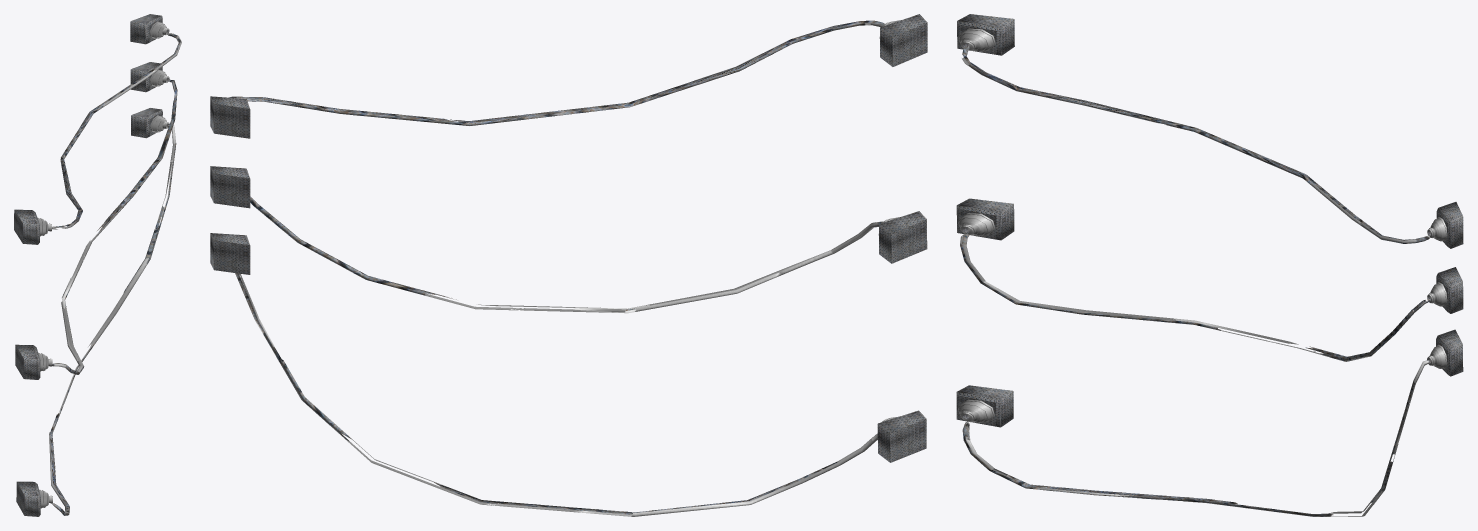
The model's file is Stone_01_Plugs_Inner_Bevel.FBX.
The picture shows the model from 3 angles, left to right: view 1: azimuth 30°, elevation 25°; view 2: azimuth 150°, elevation 25°; view 3: azimuth 270°, elevation 25°; orthographic projection. The views are drawn at different scales.
Visible parts, largest first — view 1: Wall_Stone90degreeInnerBevel; view 2: Wall_Stone90degreeInnerBevel; view 3: Wall_Stone90degreeInnerBevel.
Part boxes in pixels (x1,y1,x2,y2): Wall_Stone90degreeInnerBevel: (14, 14, 181, 516); Wall_Stone90degreeInnerBevel: (210, 14, 927, 516); Wall_Stone90degreeInnerBevel: (956, 14, 1463, 516).
Bounding box in the file's own units: 288 × 274 × 290.
